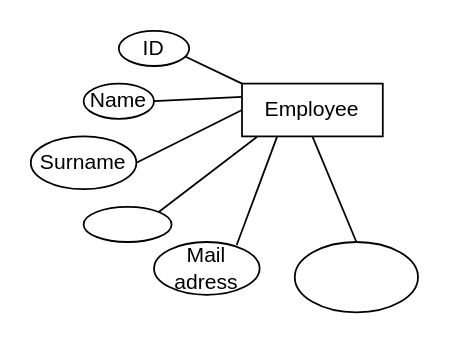
This 449x343 diagram has some shape labels left out. Here are the shapes that lost their labels. From the top down, the box of each, then its label:
(82, 205, 172, 242): Adress
(293, 240, 418, 312): Date of beginning
